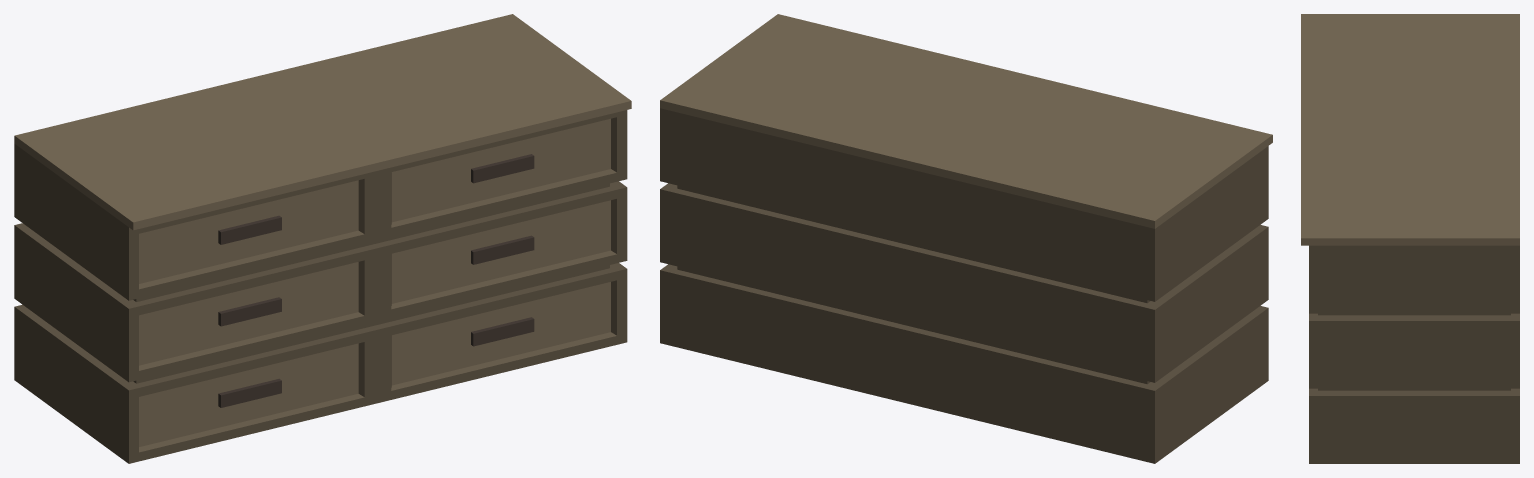
Rendered from Drawer_5.glb.
The picture shows the model from 3 angles, left to right: view 1: azimuth 30°, elevation 25°; view 2: azimuth 150°, elevation 25°; view 3: azimuth 270°, elevation 25°; orthographic projection. The views are drawn at different scales.
Parts seen in each view (by area): view 1: Drawer_5; view 2: Drawer_5; view 3: Drawer_5.
Boxes of the visible parts, left/top/right/bottom form: Drawer_5: left=14, top=14, right=631, bottom=463; Drawer_5: left=660, top=14, right=1272, bottom=463; Drawer_5: left=1301, top=14, right=1519, bottom=463.
Size of the model in its own units: 2.79 by 1.33 by 1.15.
